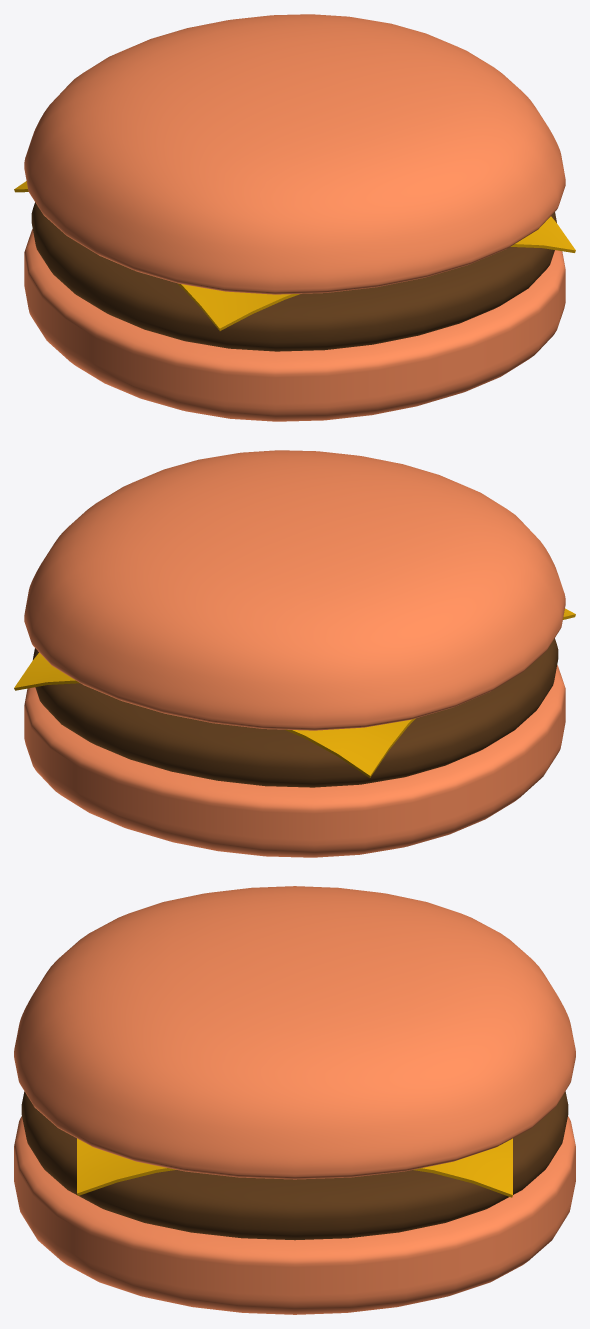
Rendered from hamburger.glb.
3 views of the same model, one above another, from view 1: azimuth 30°, elevation 25°; view 2: azimuth 150°, elevation 25°; view 3: azimuth 270°, elevation 25° (orthographic). The views are drawn at different scales.
Parts seen in each view (by area): view 1: topBun, bottomBun, meat, cheese; view 2: topBun, bottomBun, meat, cheese; view 3: topBun, bottomBun, meat, cheese.
Boxes of the visible parts, x1,y1,x2,y2 form: topBun: [24, 14, 565, 294]; bottomBun: [24, 229, 565, 421]; meat: [31, 202, 556, 351]; cheese: [14, 181, 575, 330]; topBun: [24, 450, 565, 730]; bottomBun: [24, 665, 565, 857]; meat: [33, 638, 558, 787]; cheese: [14, 608, 575, 777]; topBun: [14, 886, 575, 1179]; bottomBun: [14, 1116, 575, 1314]; meat: [21, 1091, 568, 1240]; cheese: [77, 1138, 512, 1197].
Bounding box in the file's own units: 9.17 × 4.98 × 9.17.
